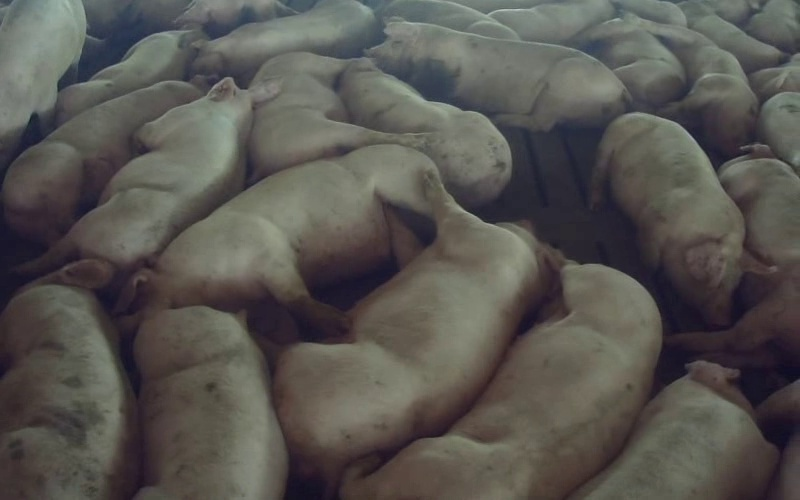pig: (274, 176, 561, 488), (341, 263, 661, 499), (122, 145, 437, 331), (22, 78, 277, 273), (592, 113, 772, 324), (2, 76, 212, 245), (0, 260, 139, 499), (134, 306, 287, 499), (667, 145, 799, 366), (367, 20, 630, 130), (571, 361, 778, 499), (337, 58, 511, 207), (249, 52, 419, 183), (625, 14, 758, 157), (191, 0, 377, 87), (56, 29, 204, 125), (572, 19, 686, 111)
